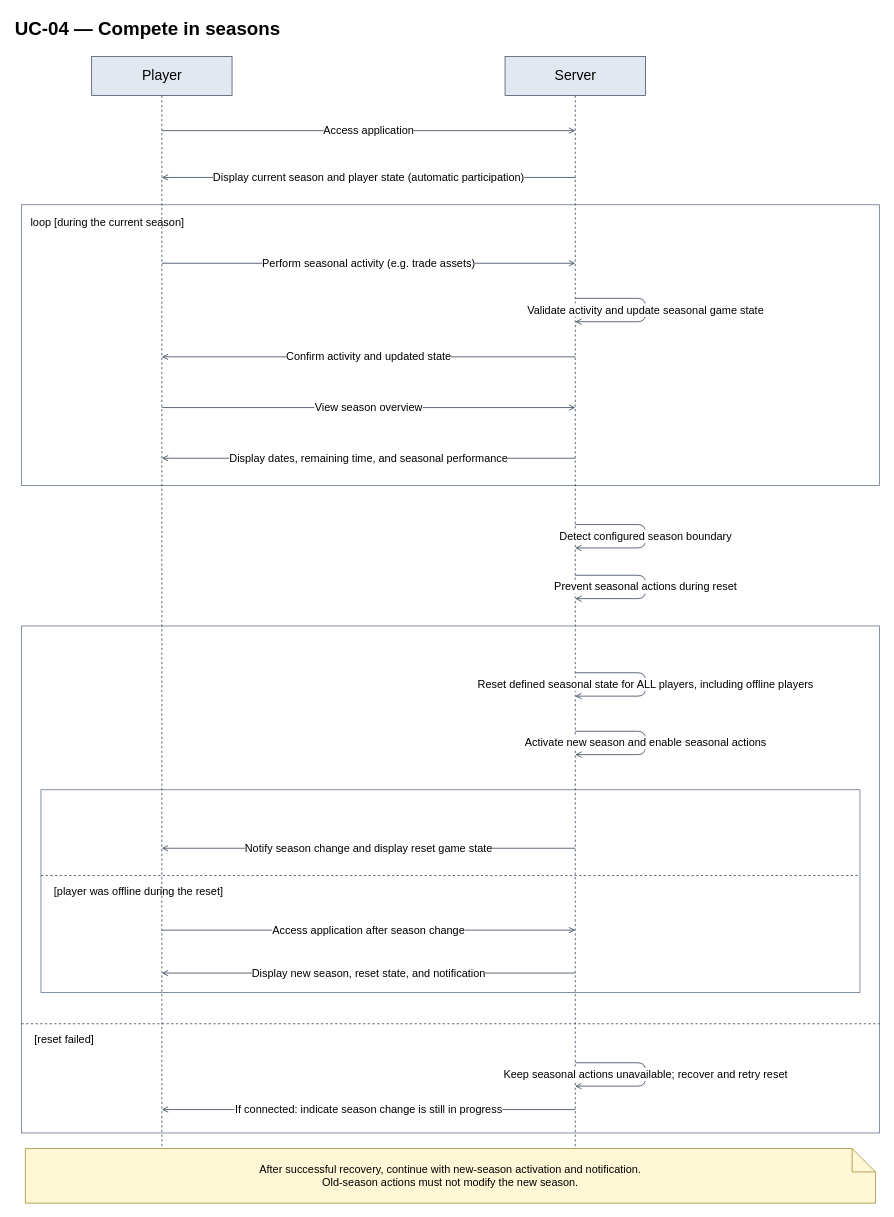
Some shapes in this 894 by 1217 pixel diagram are drawn without their labels. Each missing label, with the box of its shape:
alt [player is connected]: (40, 789, 860, 993)
alt [reset completed successfully]: (21, 625, 879, 1133)
